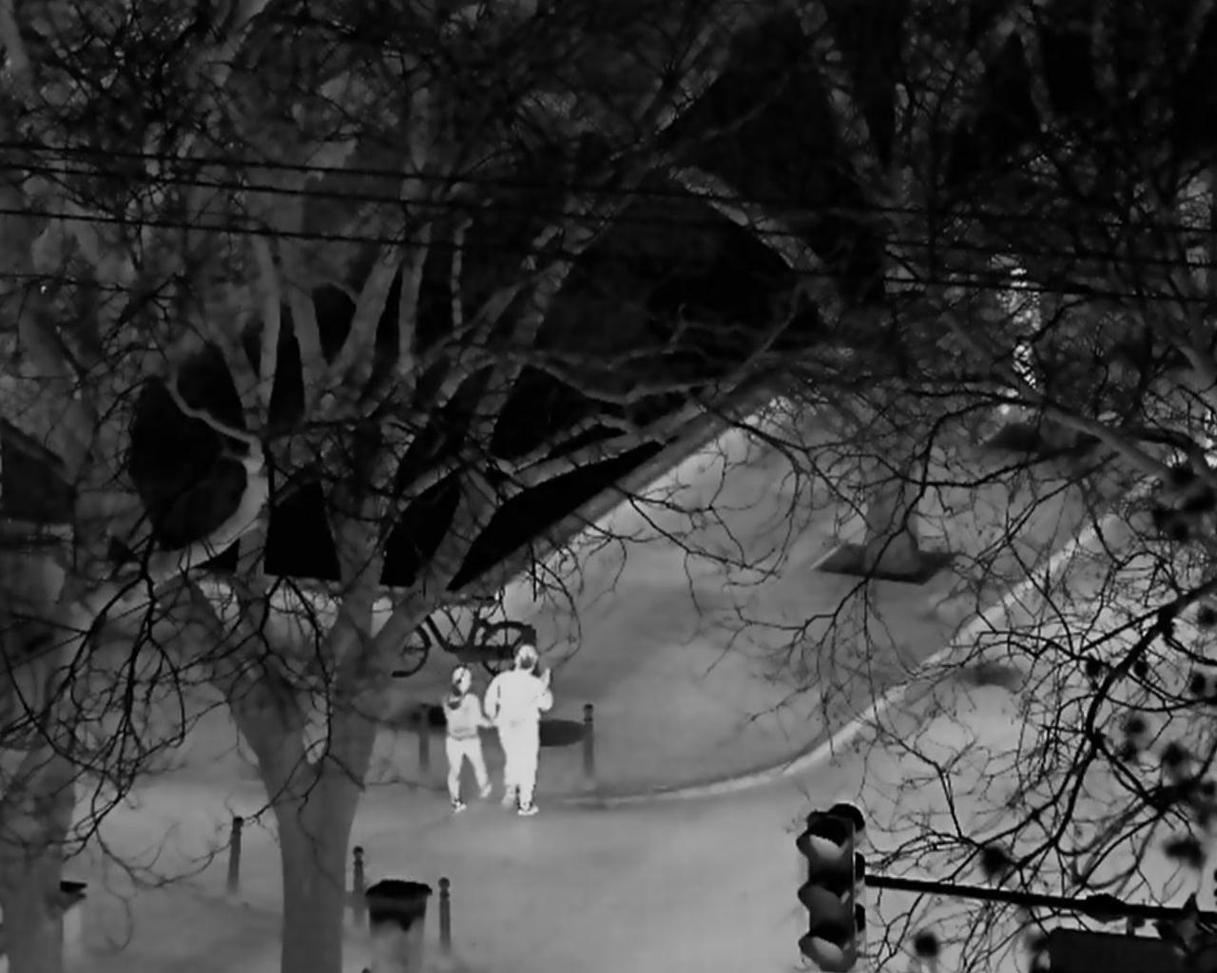person: (484, 643, 554, 815), (438, 666, 494, 813)
